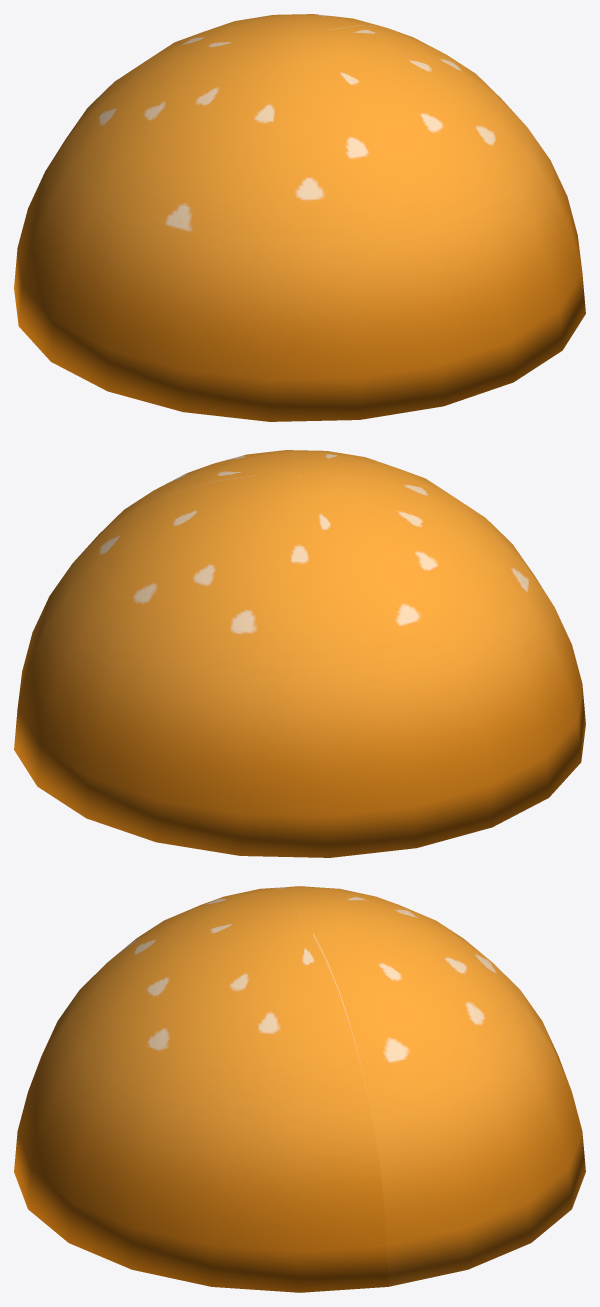
Rendered from Bun2.obj.
3 views of the same model, one above another, from view 1: azimuth 30°, elevation 25°; view 2: azimuth 150°, elevation 25°; view 3: azimuth 270°, elevation 25° (orthographic).
Parts seen in each view (by area): view 1: Bun2:pasted__pSphere1group; view 2: Bun2:pasted__pSphere1group; view 3: Bun2:pasted__pSphere1group.
Boxes of the visible parts, x1=… form: Bun2:pasted__pSphere1group: x1=14, y1=14, x2=585, y2=421; Bun2:pasted__pSphere1group: x1=14, y1=450, x2=585, y2=857; Bun2:pasted__pSphere1group: x1=14, y1=886, x2=585, y2=1292.
Bounding box in the file's own units: 1.5 × 0.8982 × 1.5.
Materials: 1 (1 with a texture image).
